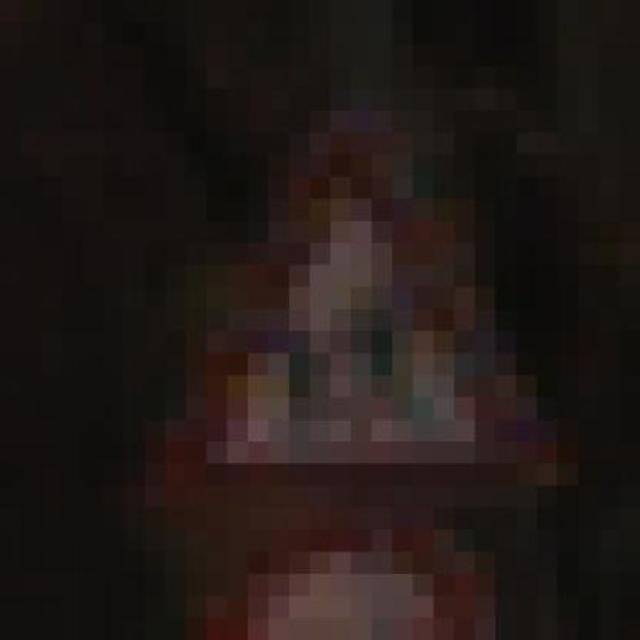Beware of children: (82, 88, 578, 530)
